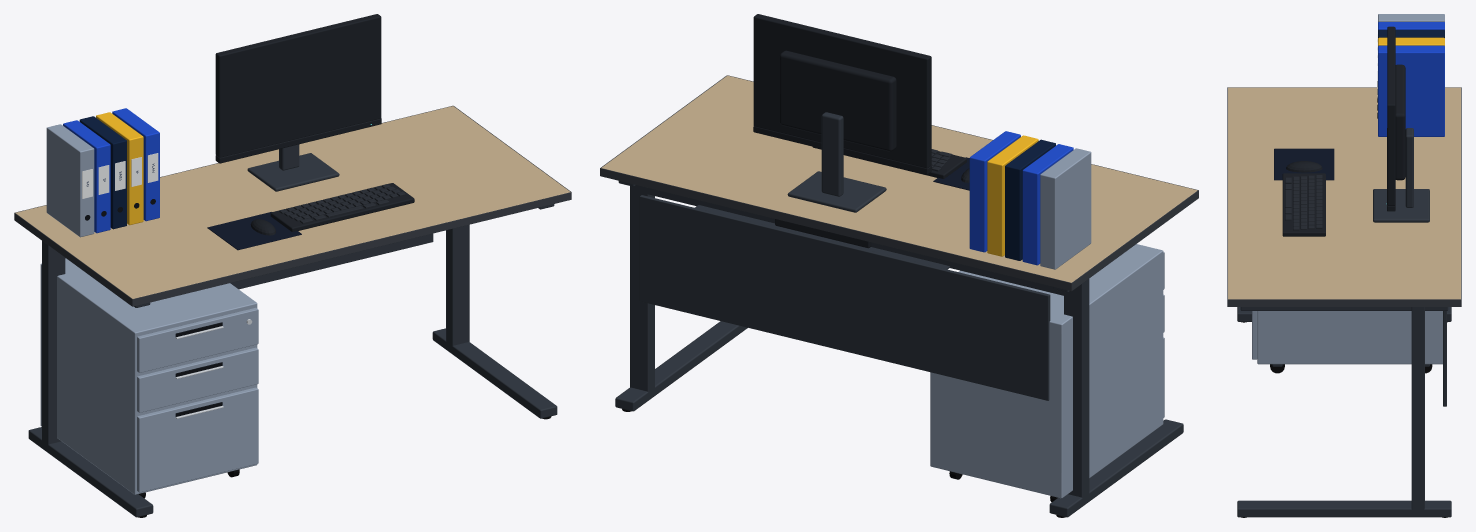
Rendered from tech-desk.glb.
3 views of the same model, side by side, from view 1: azimuth 30°, elevation 25°; view 2: azimuth 150°, elevation 25°; view 3: azimuth 270°, elevation 25° (orthographic). The views are drawn at different scales.
Parts seen in each view (by area): view 1: TechDesk; view 2: TechDesk; view 3: TechDesk.
Boxes of the visible parts, box(x1,y1,x2,y2) form: TechDesk: box(14, 14, 571, 517); TechDesk: box(600, 14, 1198, 517); TechDesk: box(1227, 14, 1461, 517).
Bounding box in the file's own units: 1.5 × 1.21 × 0.7.
